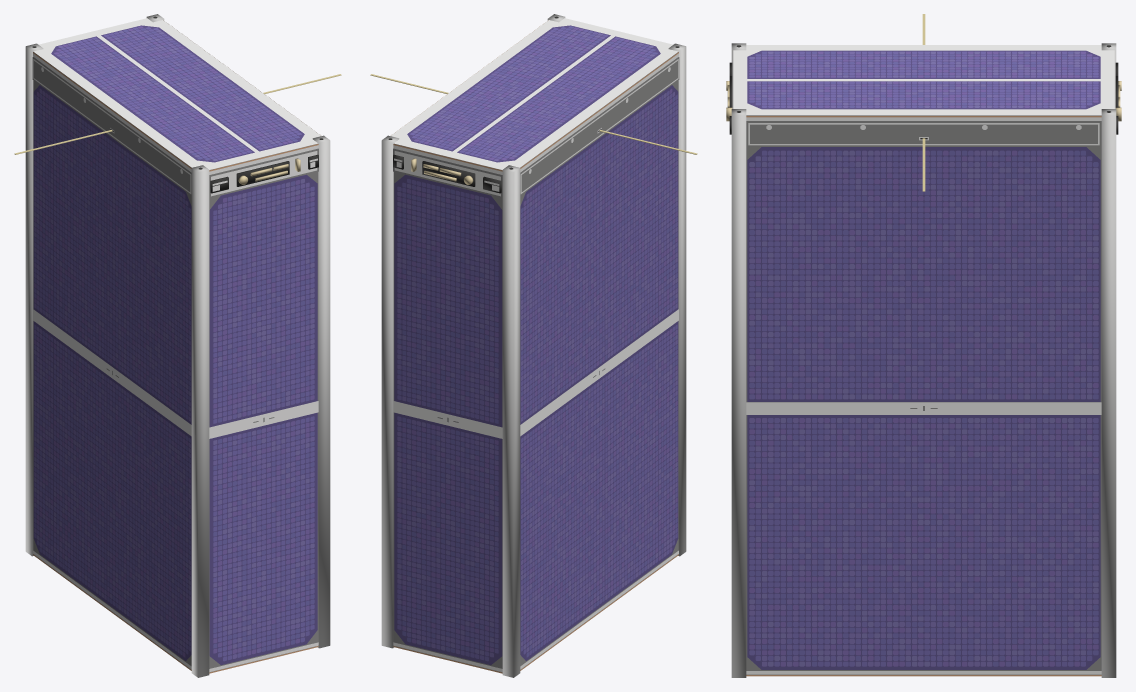
The model's file is 6U_CubeSat.glb.
3 views of the same model, side by side, from view 1: azimuth 30°, elevation 25°; view 2: azimuth 150°, elevation 25°; view 3: azimuth 270°, elevation 25° (orthographic). The views are drawn at different scales.
Parts seen in each view (by area): view 1: Face -X, Face -Y, Top end, Corner rail, Corner rail.002, Corner rail.001, Black connector block -Y 2; view 2: Face -X, Face +Y, Top end, Corner rail.001, Corner rail.003, Corner rail, Black connector block +Y 2; view 3: Face +X, Top end, Corner rail.002, Corner rail.003.
Part boxes in pixels (<box>): Face -X: <box>32,52,191,670</box>; Face -Y: <box>209,144,318,673</box>; Top end: <box>33,18,321,169</box>; Corner rail: <box>191,165,209,677</box>; Corner rail.002: <box>312,135,330,648</box>; Corner rail.001: <box>25,43,43,556</box>; Black connector block -Y 2: <box>236,161,289,186</box>; Face -X: <box>520,52,679,670</box>; Face +Y: <box>393,144,502,673</box>; Top end: <box>390,18,678,169</box>; Corner rail.001: <box>502,165,520,677</box>; Corner rail.003: <box>381,135,399,648</box>; Corner rail: <box>668,43,686,556</box>; Black connector block +Y 2: <box>422,161,475,186</box>; Face +X: <box>746,115,1101,676</box>; Top end: <box>733,45,1114,115</box>; Corner rail.002: <box>731,109,746,677</box>; Corner rail.003: <box>1101,109,1116,677</box>.
Bounding box in the file's own units: 0.2468 × 0.3658 × 0.2329.
